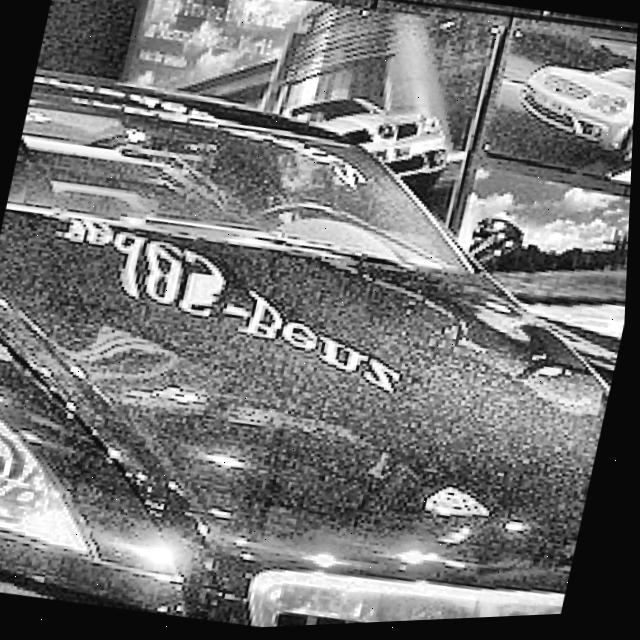light_vehicle: (0, 40, 638, 640), (262, 75, 468, 210), (496, 45, 638, 186)
